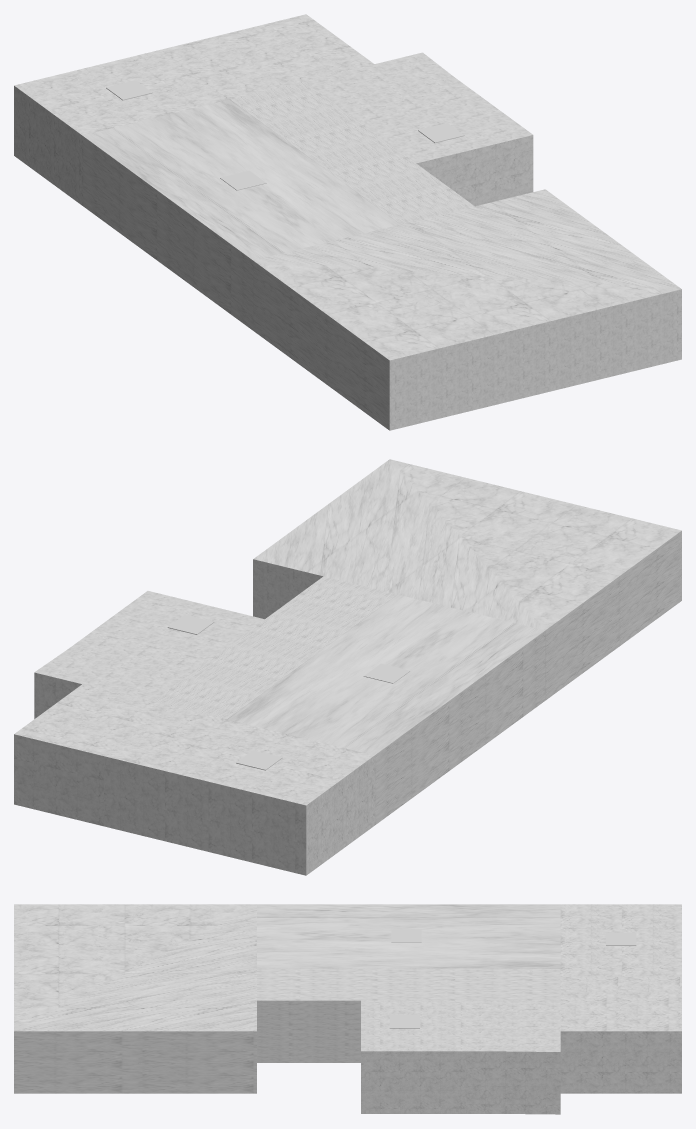
File: officemap.fbx
3 views of the same model, one above another, from view 1: azimuth 30°, elevation 25°; view 2: azimuth 150°, elevation 25°; view 3: azimuth 270°, elevation 25° (orthographic). The views are drawn at different scales.
Visible parts, largest first — view 1: Reception, Main Office, Meeting Room, Plane, Hallway; view 2: Reception, Meeting Room, Main Office, Plane, Hallway; view 3: Reception, Meeting Room, Plane, Main Office, Hallway, Light.001, Light.
Boxes of the visible parts, left/top/right/bottom form: Reception: left=253, top=189, right=681, bottom=430; Main Office: left=82, top=99, right=400, bottom=330; Meeting Room: left=14, top=14, right=374, bottom=205; Plane: left=304, top=52, right=533, bottom=206; Hallway: left=230, top=81, right=474, bottom=224; Reception: left=253, top=459, right=681, bottom=700; Meeting Room: left=14, top=684, right=374, bottom=875; Main Office: left=227, top=594, right=545, bottom=825; Plane: left=34, top=591, right=264, bottom=718; Hallway: left=153, top=576, right=396, bottom=719; Reception: left=14, top=904, right=256, bottom=1093; Meeting Room: left=560, top=904, right=681, bottom=1093; Plane: left=361, top=1000, right=560, bottom=1114; Main Office: left=257, top=904, right=560, bottom=968; Hallway: left=257, top=968, right=560, bottom=1062; Light.001: left=389, top=1015, right=419, bottom=1028; Light: left=606, top=932, right=636, bottom=945.
Size of the model in its own units: 1151 by 235 by 2200.
